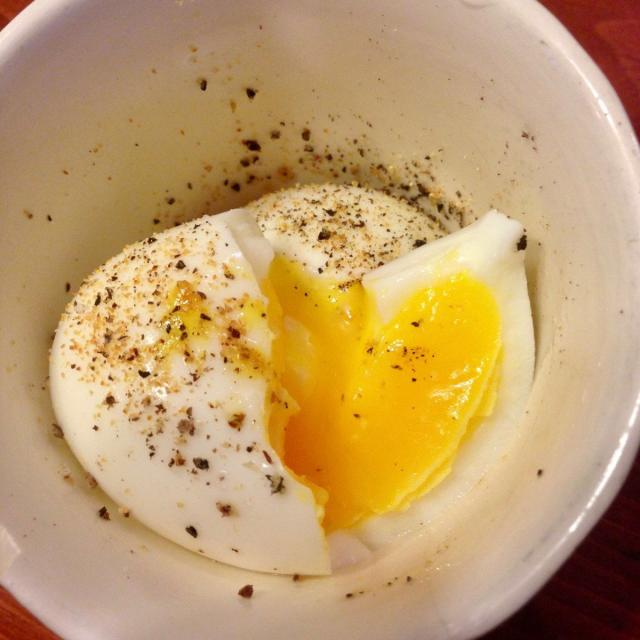boiled egg: (54, 215, 518, 521)
